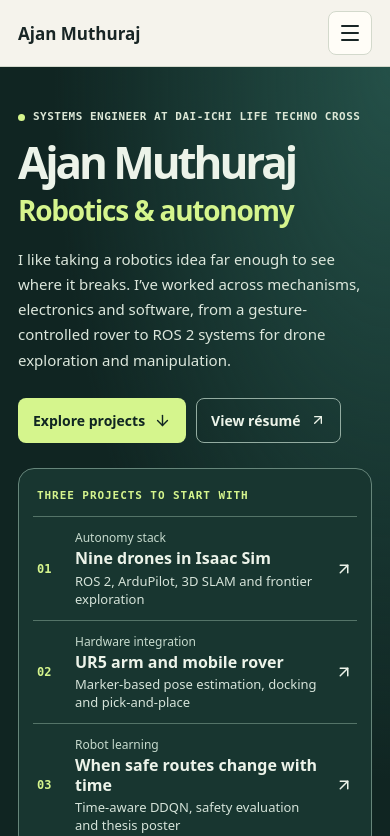
portfolio interactions › exposes mobile navigation state and closes it after navigation
Click the button named "Toggle navigation".
click(350, 33)  # box [328,11,372,55]
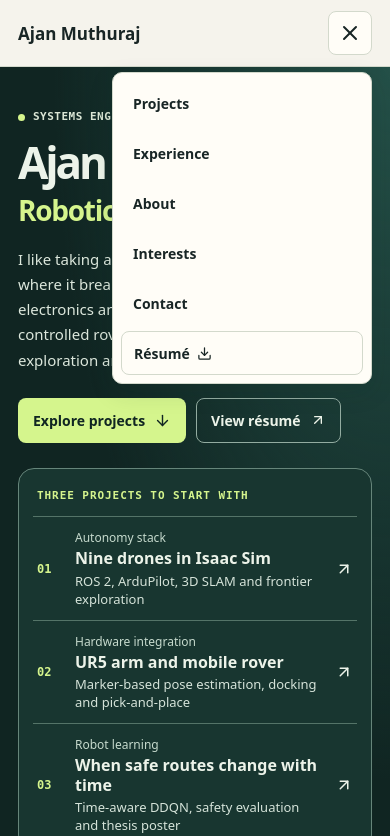
expect the button named "Toggle navigation" is expanded: met, box [328,11,372,55]
Click the link "Projects".
click(161, 103)  # box [133,94,189,112]
(page scrolled)
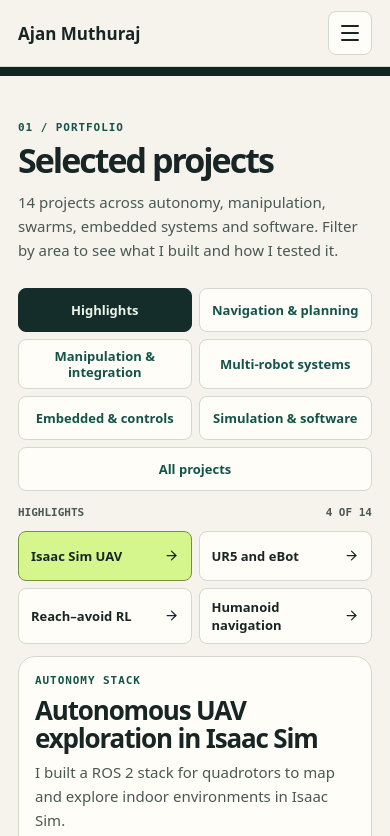
expect the button named "Toggle navigation" is collapsed: met, box [328,11,372,55]
